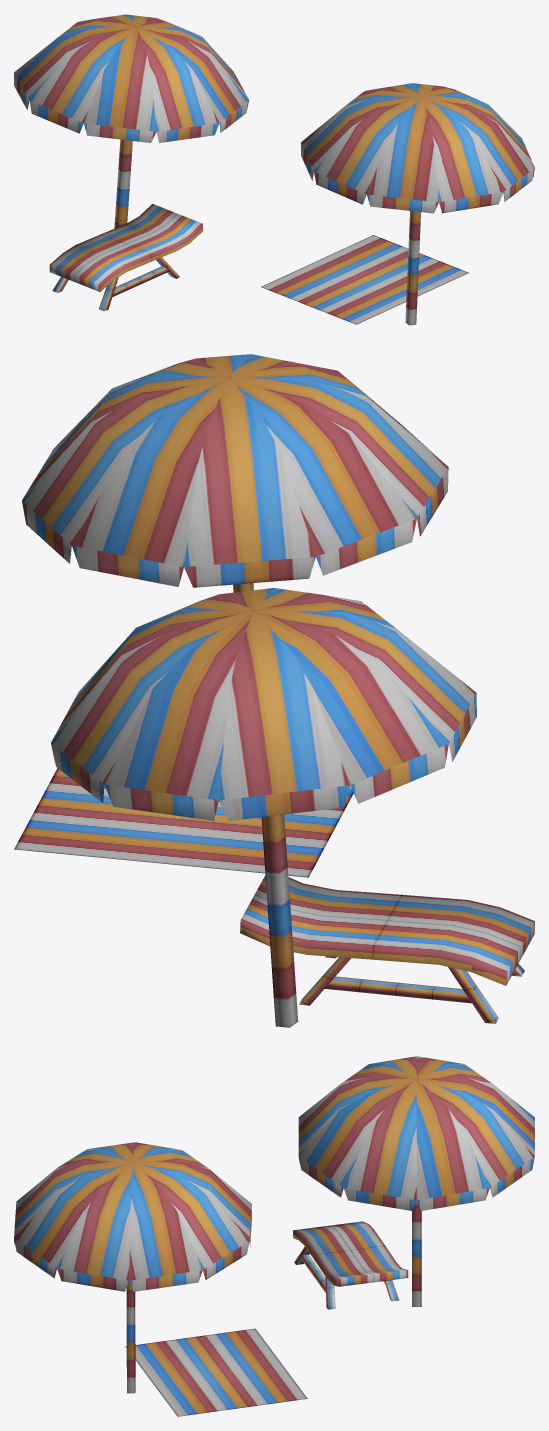
The model's file is 0169_T_ZhenYin_San.glb.
The picture shows the model from 3 angles, top to bottom: view 1: azimuth 30°, elevation 25°; view 2: azimuth 150°, elevation 25°; view 3: azimuth 270°, elevation 25°; orthographic projection. The views are drawn at different scales.
Size of the model in its own units: 1.85 by 1.13 by 2.2.
1 material, 1 textured.
